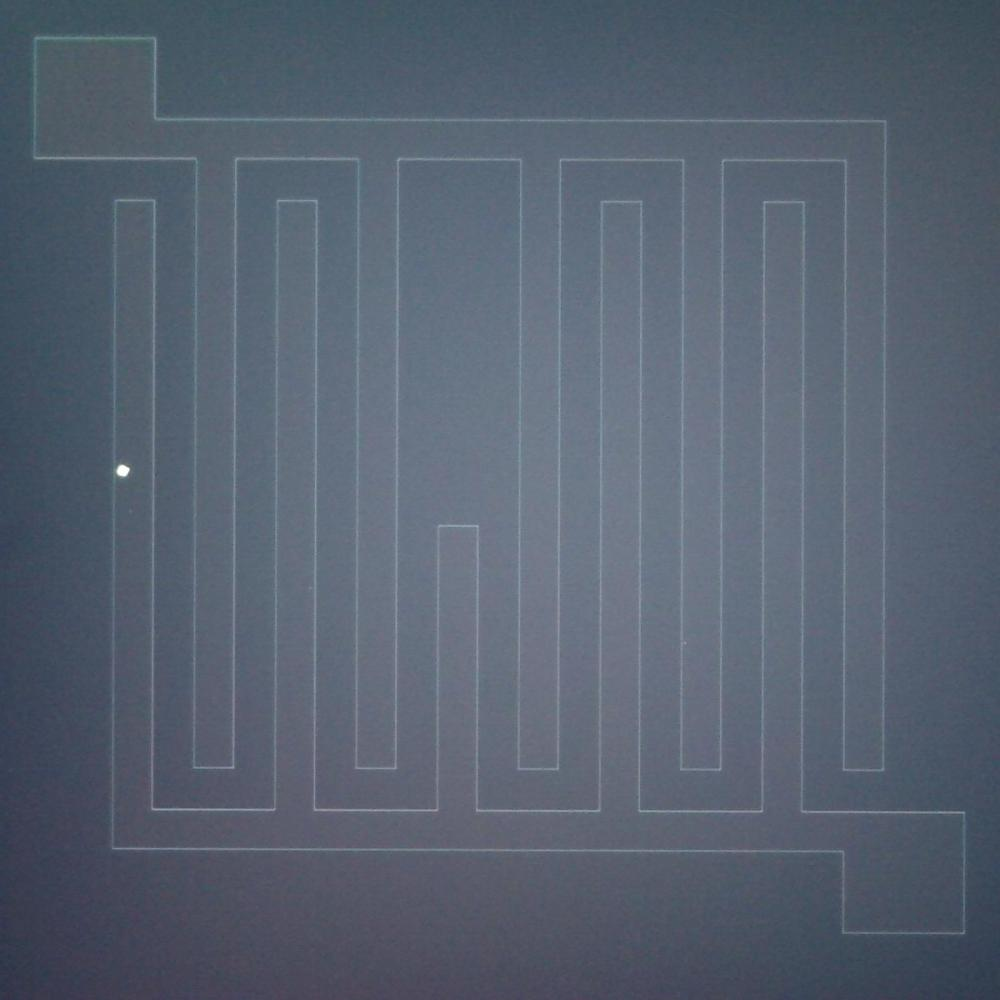cut circuit: (426, 182, 493, 862)
spot: (110, 457, 135, 483)
